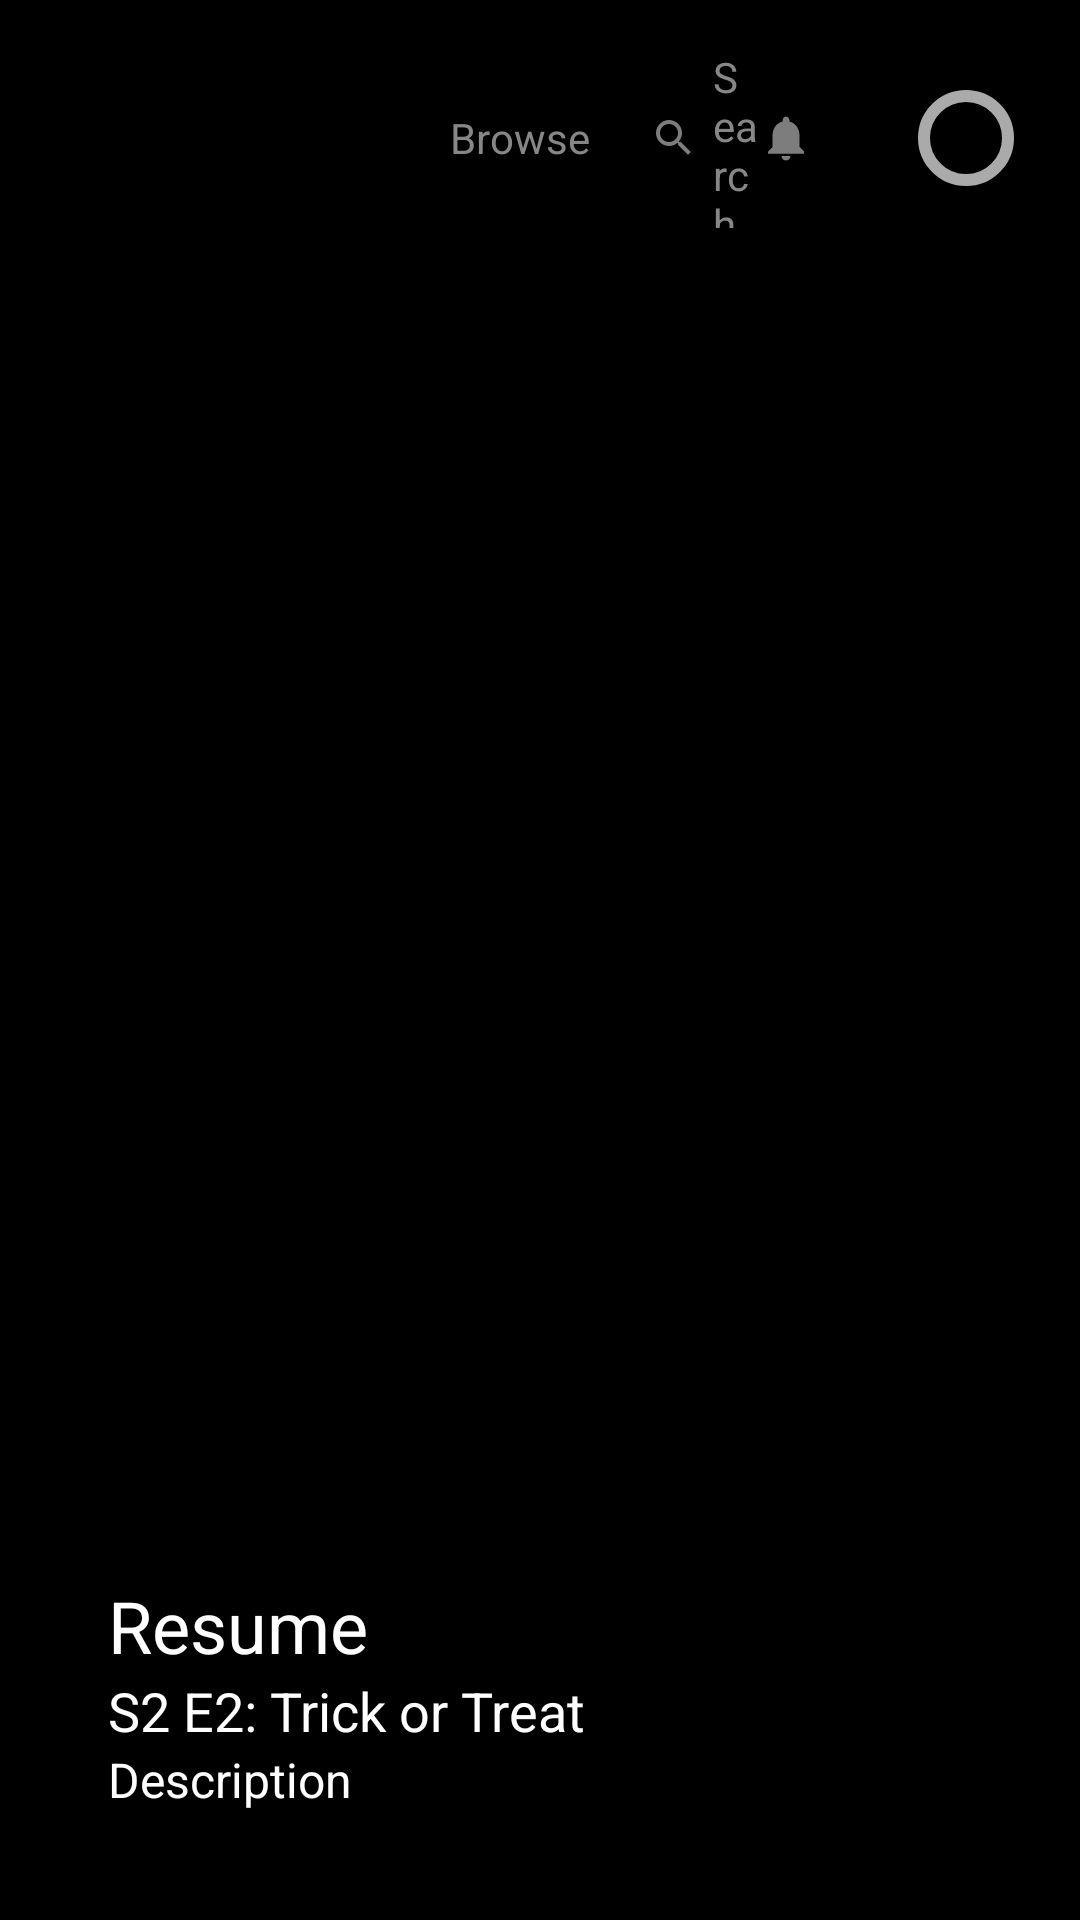

Where to tap for icons on this 1080px×1920px app screen, as (x=x, y=y):
Notifications: (x=786, y=138)
